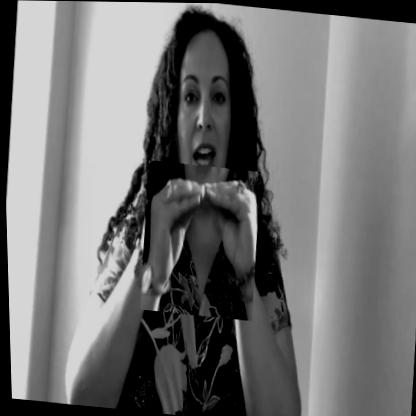Fix: (135, 160, 263, 320)
